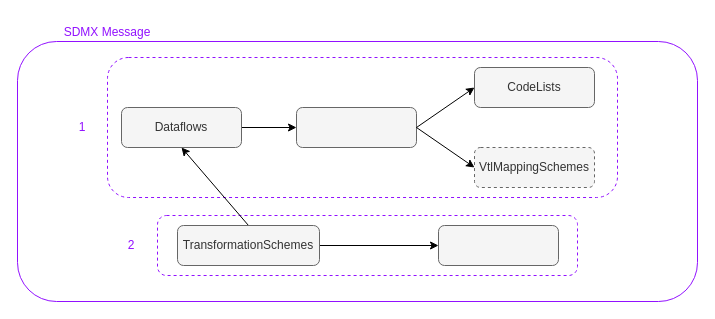
Some shapes in this 715 by 319 pixel diagram are drawn without their labels. Here are the shapes that lost their labels. From the top down, the centre of each, then its label:
(x=356, y=127): DataStructures
(x=498, y=245): RulesetSchemes
